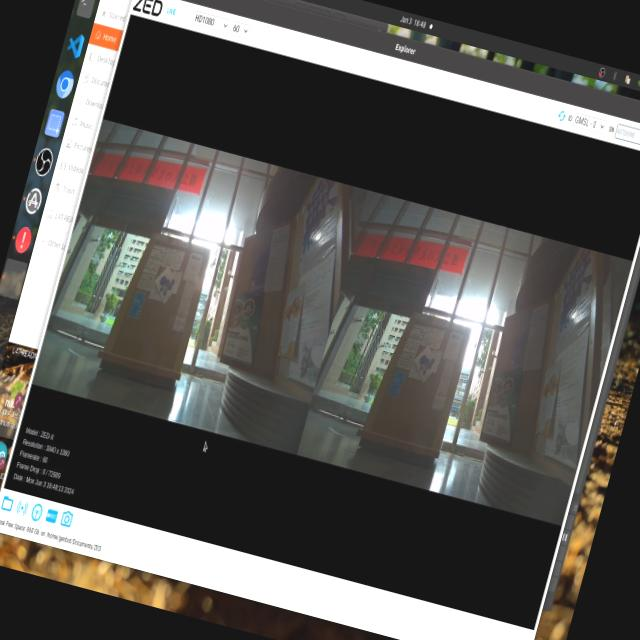blue: (411, 342, 444, 380), (157, 265, 176, 301)
